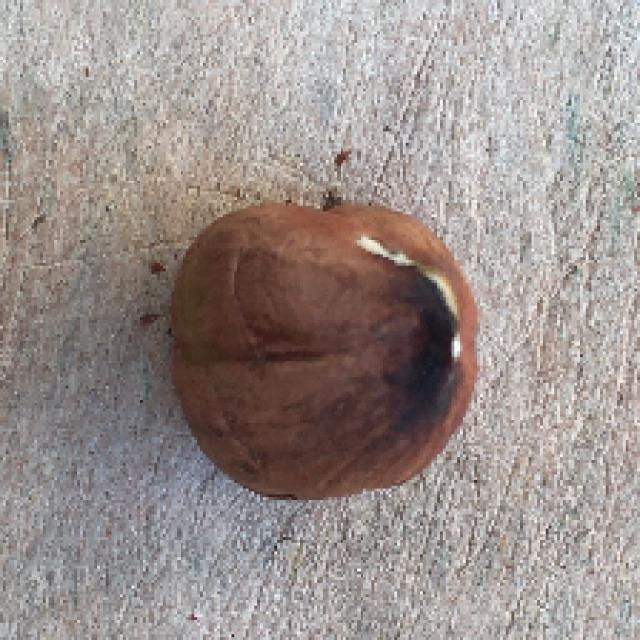hazelnut: (179, 187, 469, 483)
